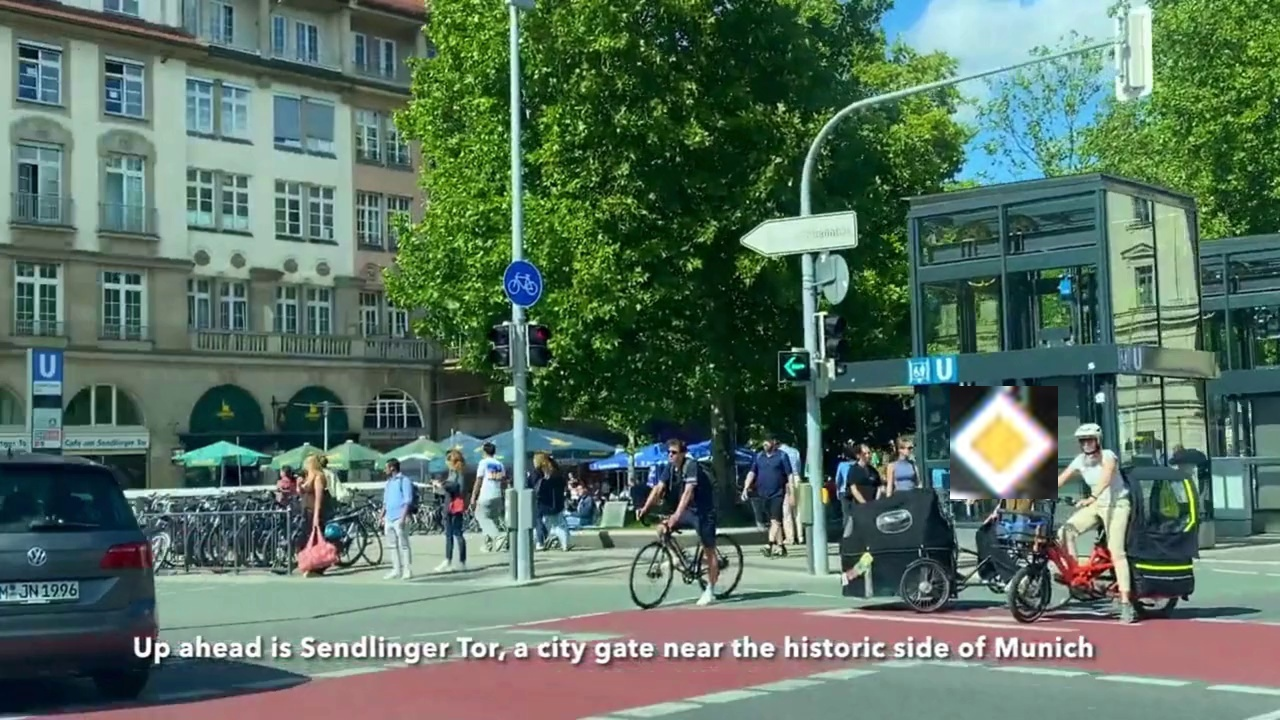Priority road: (950, 386, 1058, 499)
